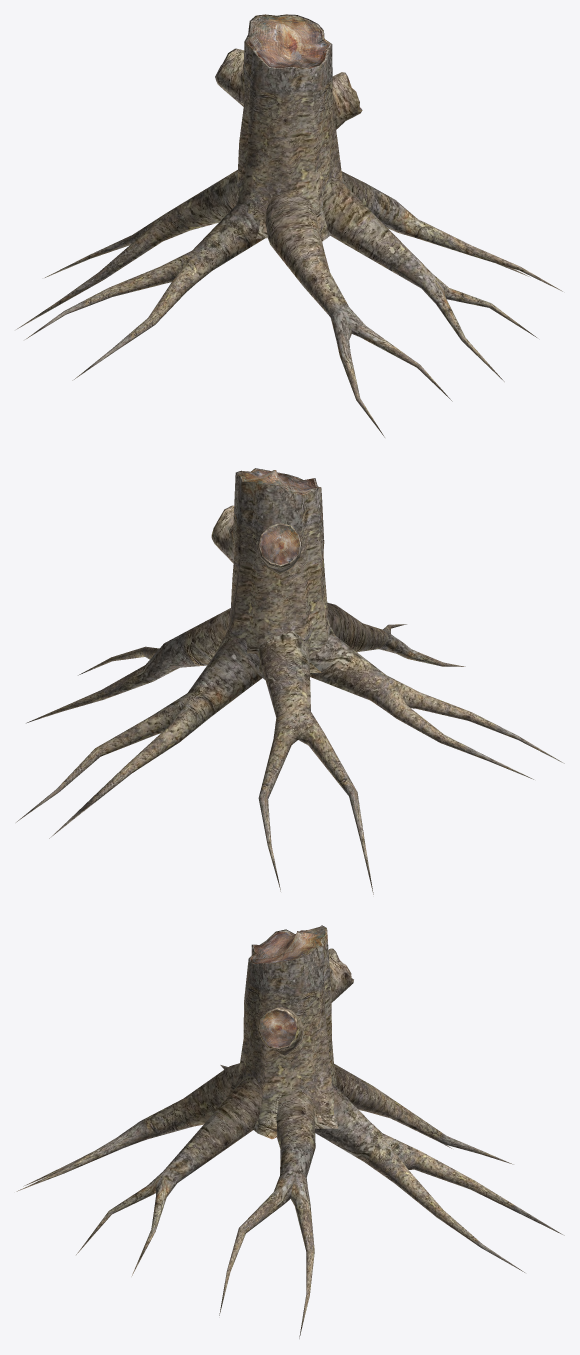
File: stump_sycamore.gltf
3 renders of one model, top to bottom at view 1: azimuth 30°, elevation 25°; view 2: azimuth 150°, elevation 25°; view 3: azimuth 270°, elevation 25°, orthographic. The views are drawn at different scales.
Visible parts, largest first — view 1: Tree-00014; view 2: Tree-00014; view 3: Tree-00014.
Part boxes in pixels (x1,y1,x2,y2): Tree-00014: [16, 14, 562, 437]; Tree-00014: [16, 468, 564, 894]; Tree-00014: [16, 925, 564, 1338].
Size of the model in its own units: 2.2 by 1.33 by 2.2.
2 materials, 2 textured.
